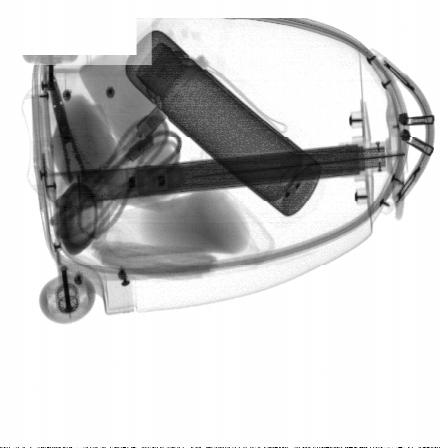Scissors: (46, 71, 113, 218)
